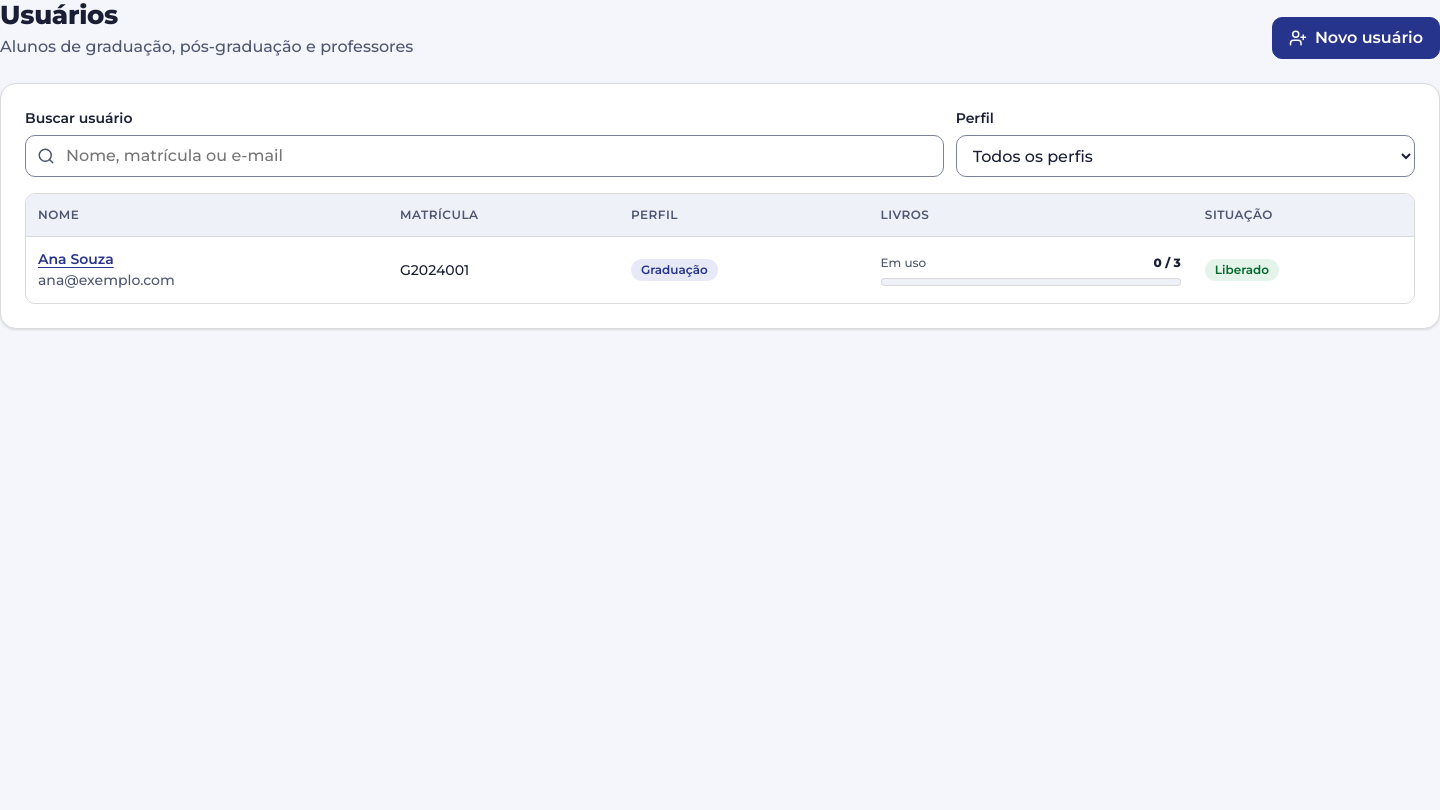
UI — páginas › UI25 — cadastro de usuário mostra os erros de validação da API em cada campo
Check: the link "Ana Souza" is shown, box top-left (38, 250), bottom-right (114, 268)
Click the button "Novo usuário".
click(1356, 38)  # box top-left (1272, 17), bottom-right (1439, 59)
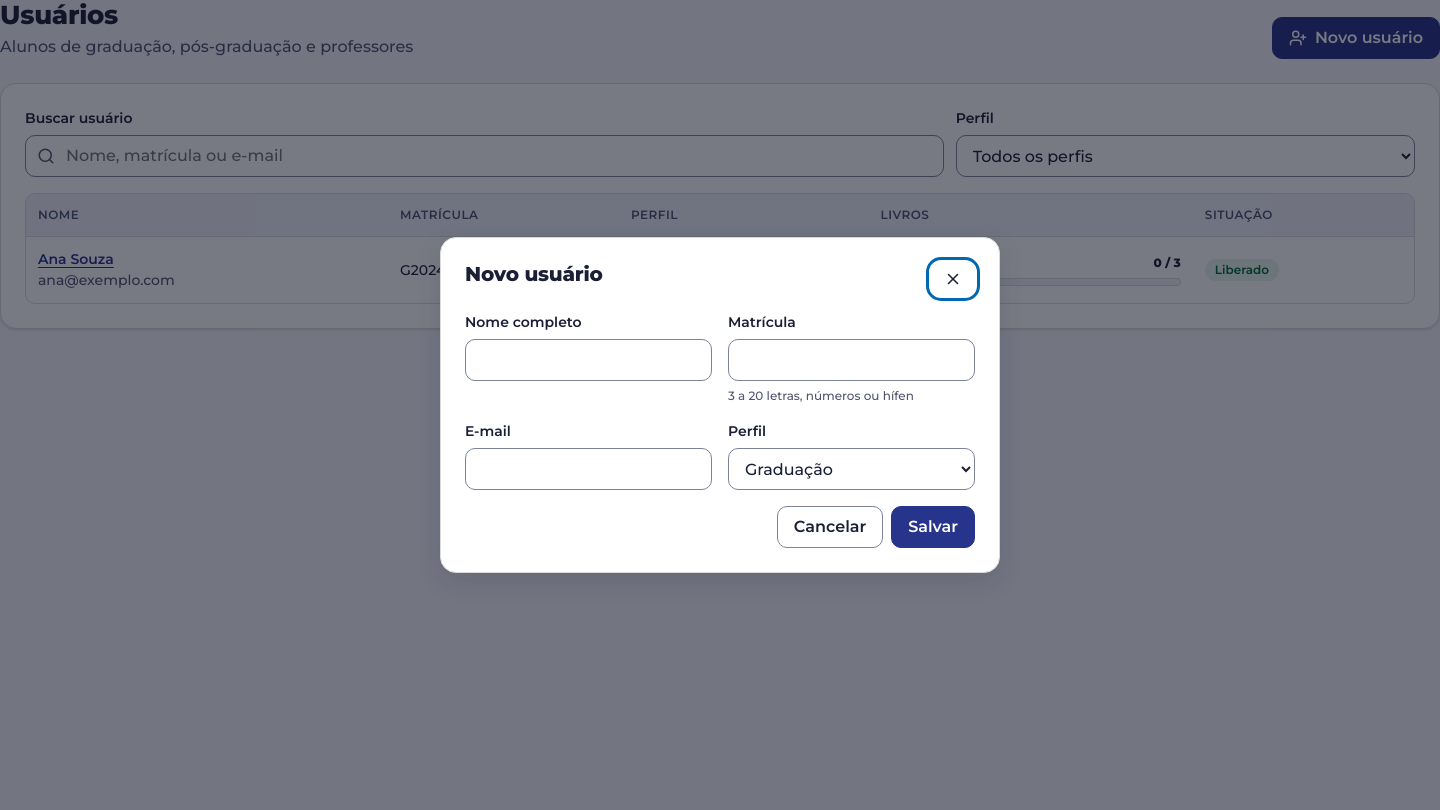
Type "ana" into the field labelled "E-mail".
click(588, 469); type("ana")  # box top-left (465, 448), bottom-right (712, 490)
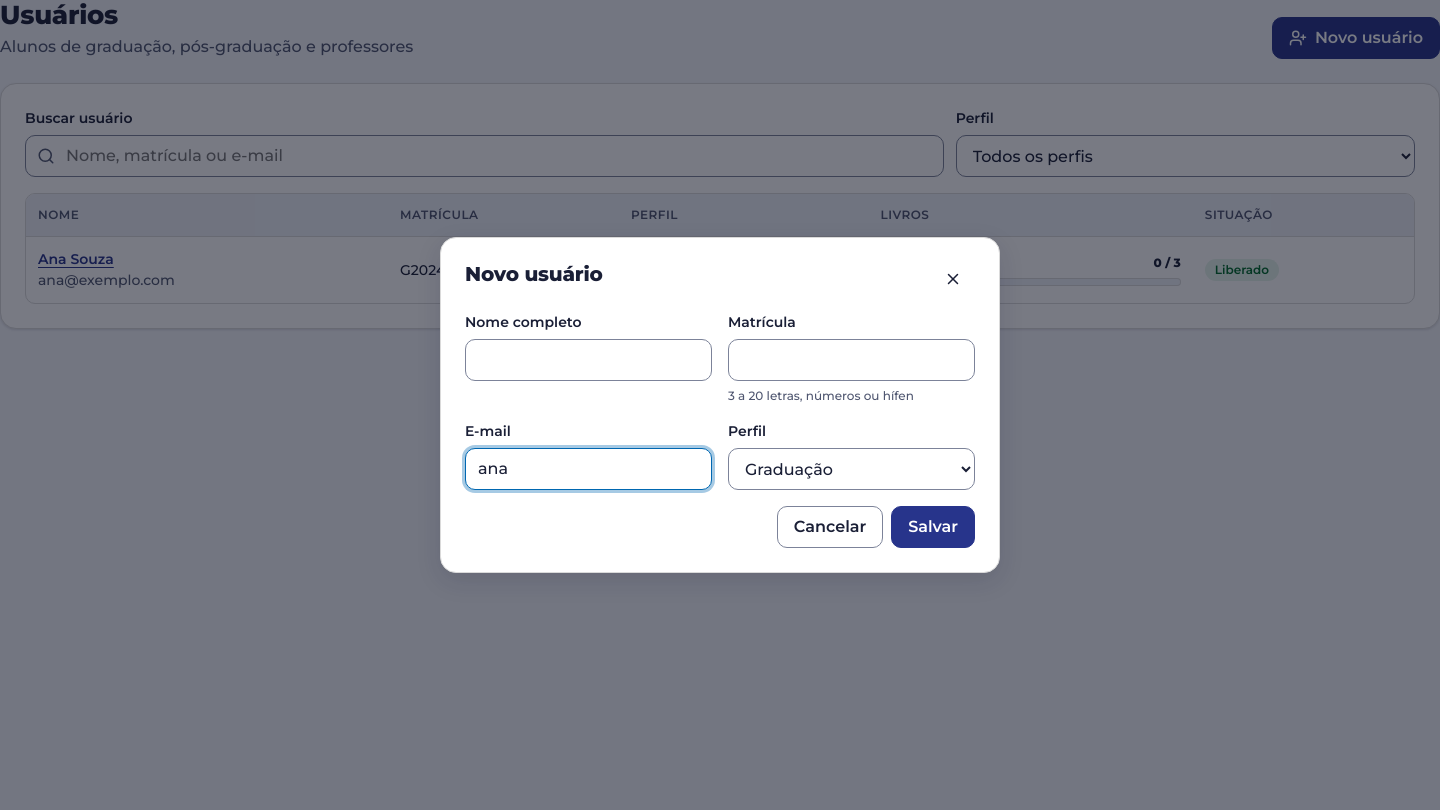
Click the button "Salvar".
click(933, 527)  # box top-left (891, 506), bottom-right (975, 548)
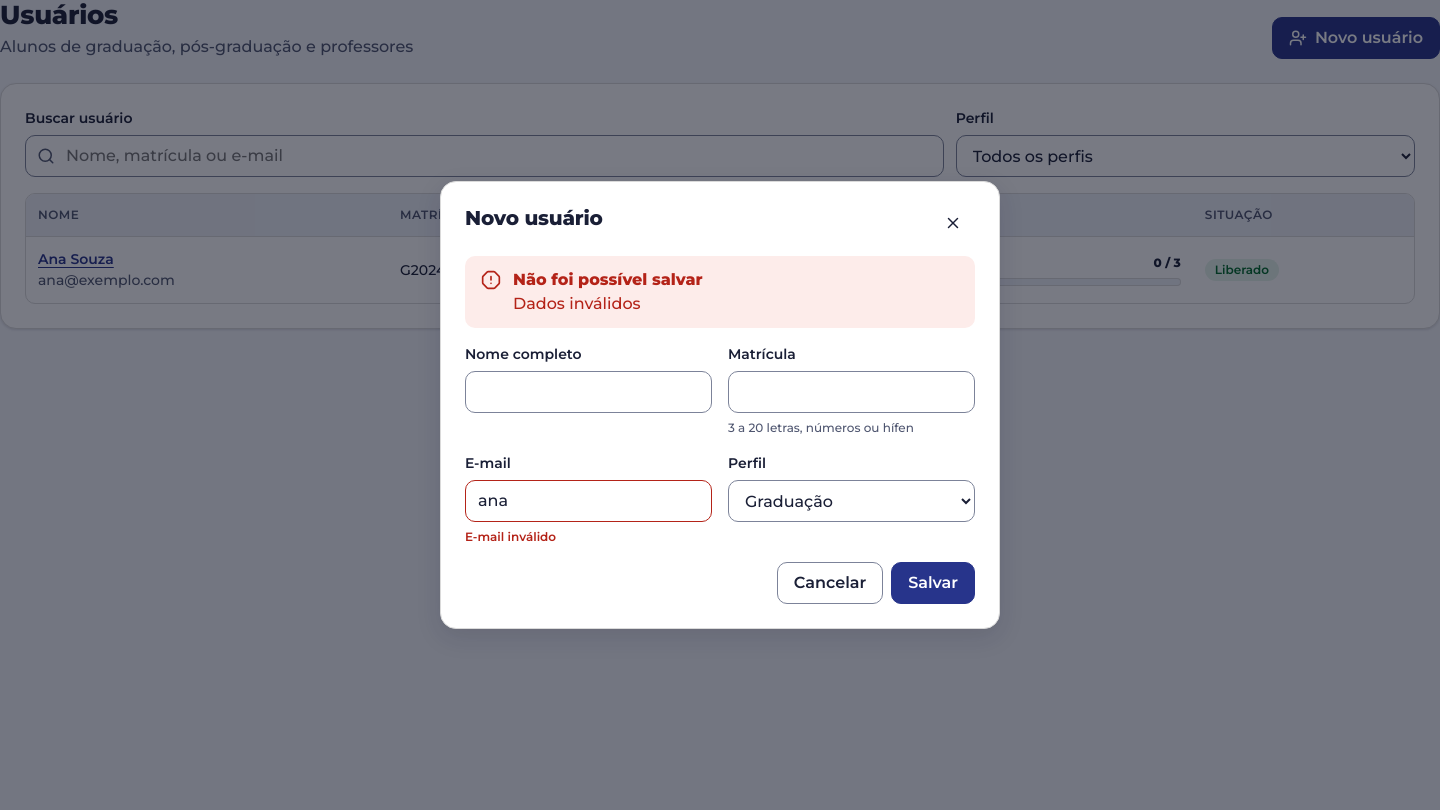
Check: the text "E-mail inválido" is shown, box top-left (465, 529), bottom-right (556, 544)
